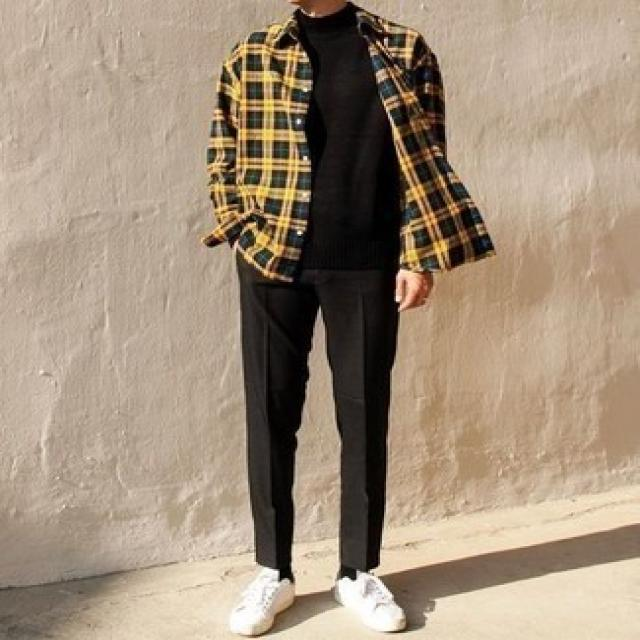plaid: (209, 23, 474, 277)
